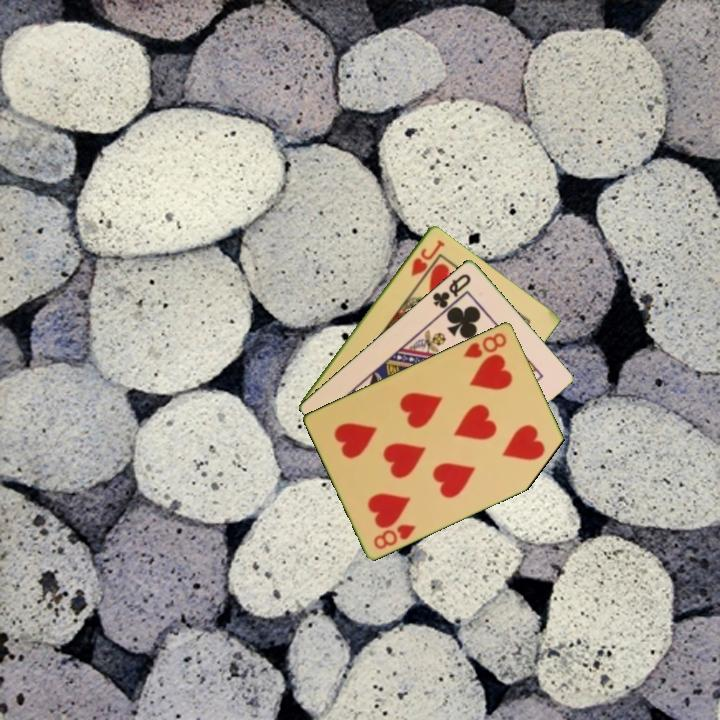8h: (459, 329, 510, 361), (370, 520, 419, 552)
Jh: (407, 236, 447, 279)
Qc: (429, 270, 474, 316)
